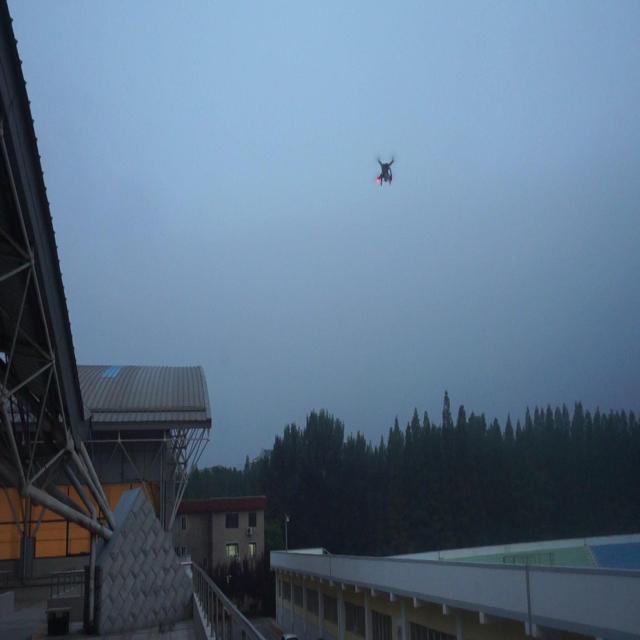drone: (373, 150, 397, 189)
